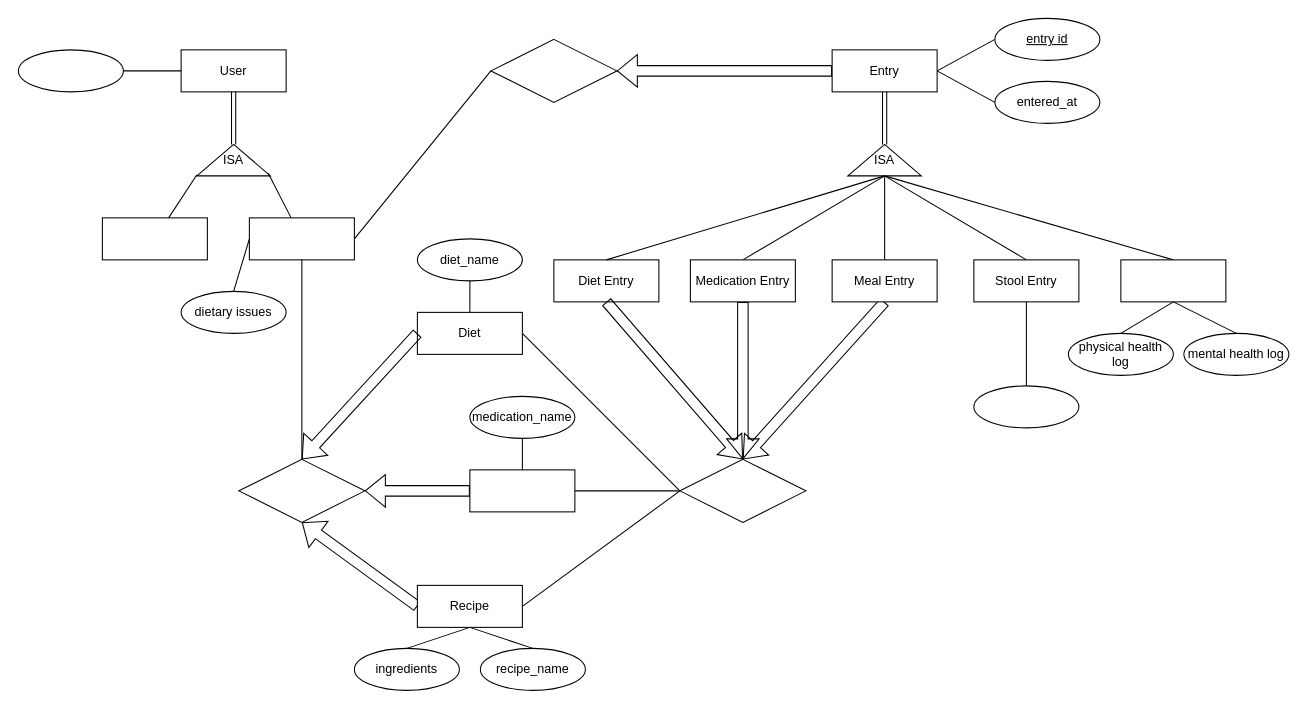
Image size: 1307x709. Some labels were removed from this diagram. The box of each missing label's shape, as (x1, y1, x2, y2) in pixels:
Admin: (101, 217, 207, 260)
Drugs & Supplements: (469, 469, 575, 512)
entered: (679, 458, 806, 522)
Health Entry: (1120, 259, 1226, 302)
logs: (490, 38, 617, 102)
Member: (248, 217, 354, 260)
saves: (238, 458, 365, 522)
stool description: (973, 385, 1079, 428)
user id: (17, 49, 123, 92)
